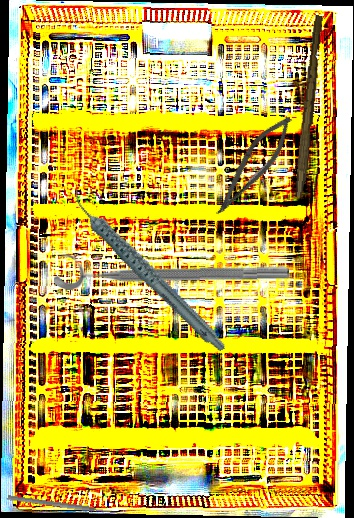Fixation Ring: (53, 246, 290, 291)
Handpiece: (69, 164, 228, 376)
Micro Scissor: (208, 107, 300, 226)
Pusher: (7, 494, 121, 517)
Scalpel Handle: (295, 14, 324, 199)
